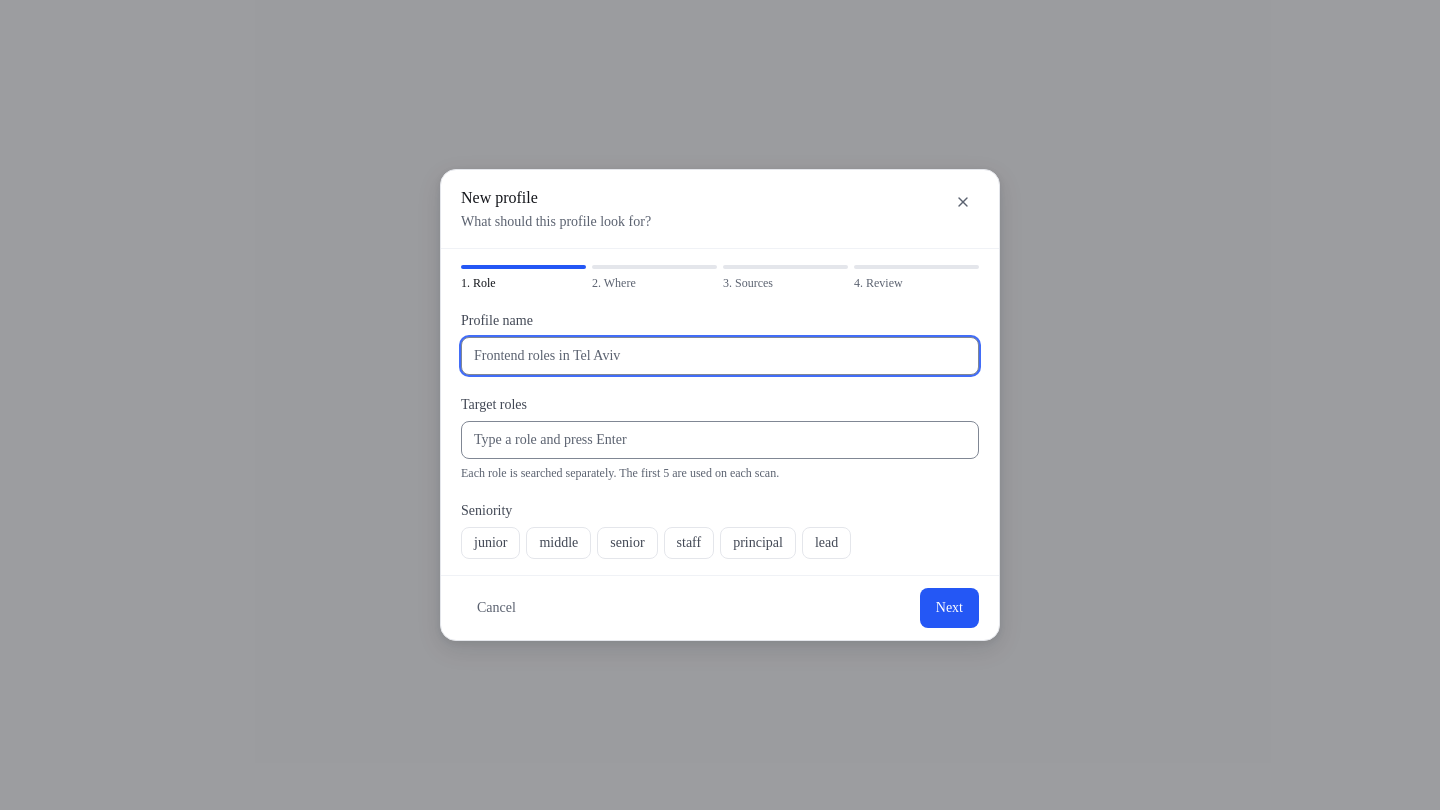
Test case: ProfileFormDialog create › sends the user back to step 1 if they jump to Review with a cleared name
Step 1. Type "Frontend" into the field labelled "Profile name" → (720, 356), box [461, 337, 979, 375]
Step 2. Type "React developer" into the field labelled "Target roles" → (720, 440), box [461, 421, 979, 459]
Then press Enter
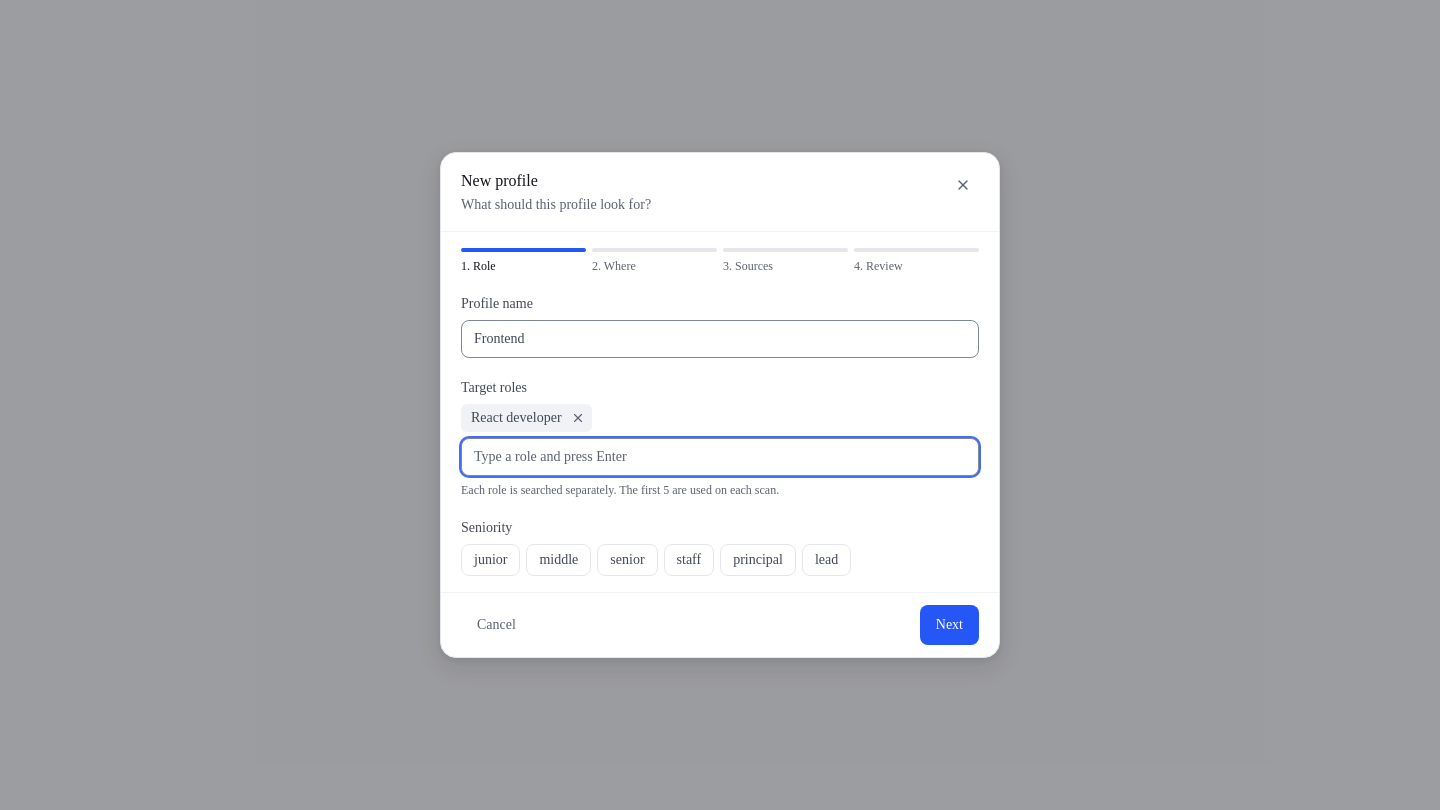
Step 3. Click the button "Next" → (949, 625), box [920, 605, 979, 645]
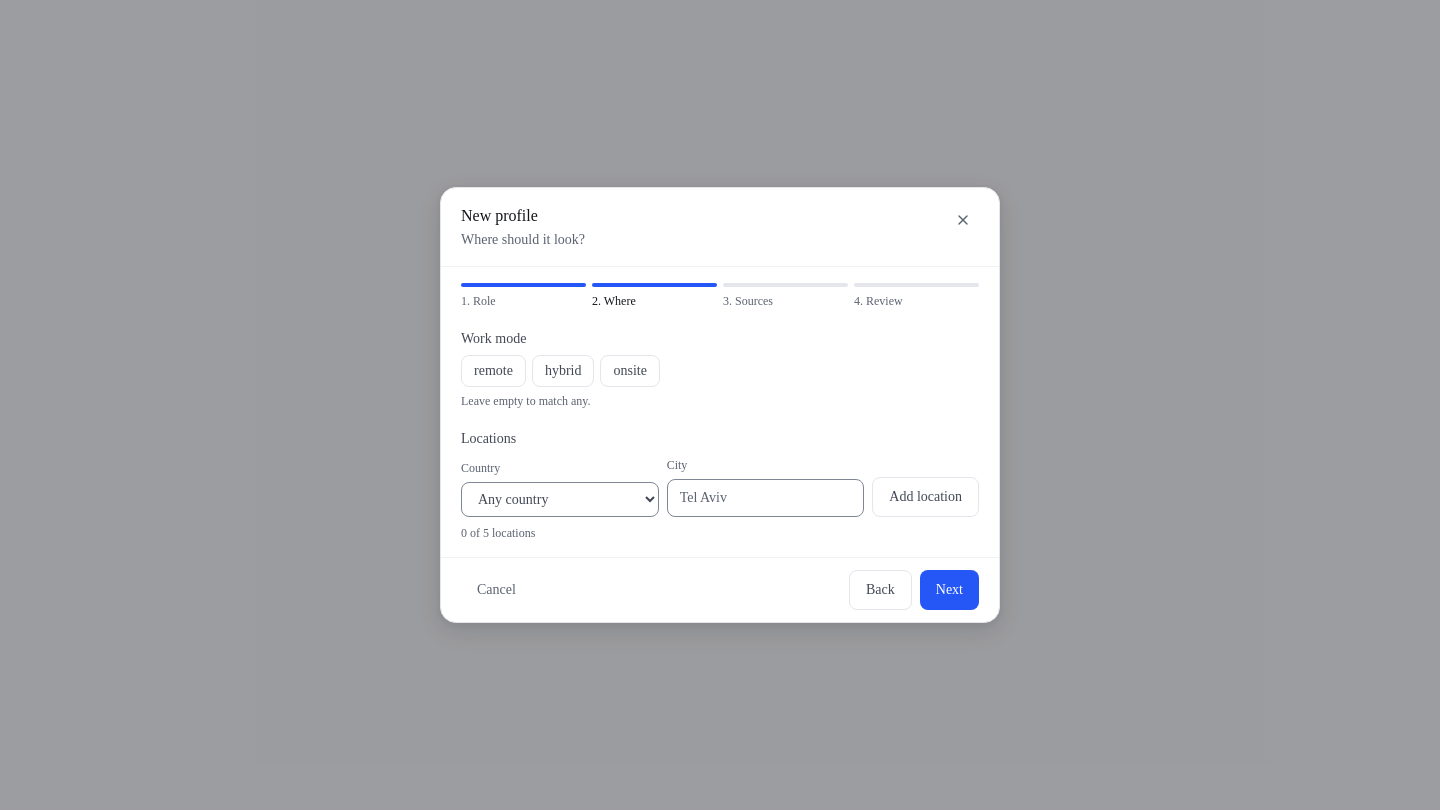
Step 4. Click the button "Next" → (949, 590), box [920, 570, 979, 610]
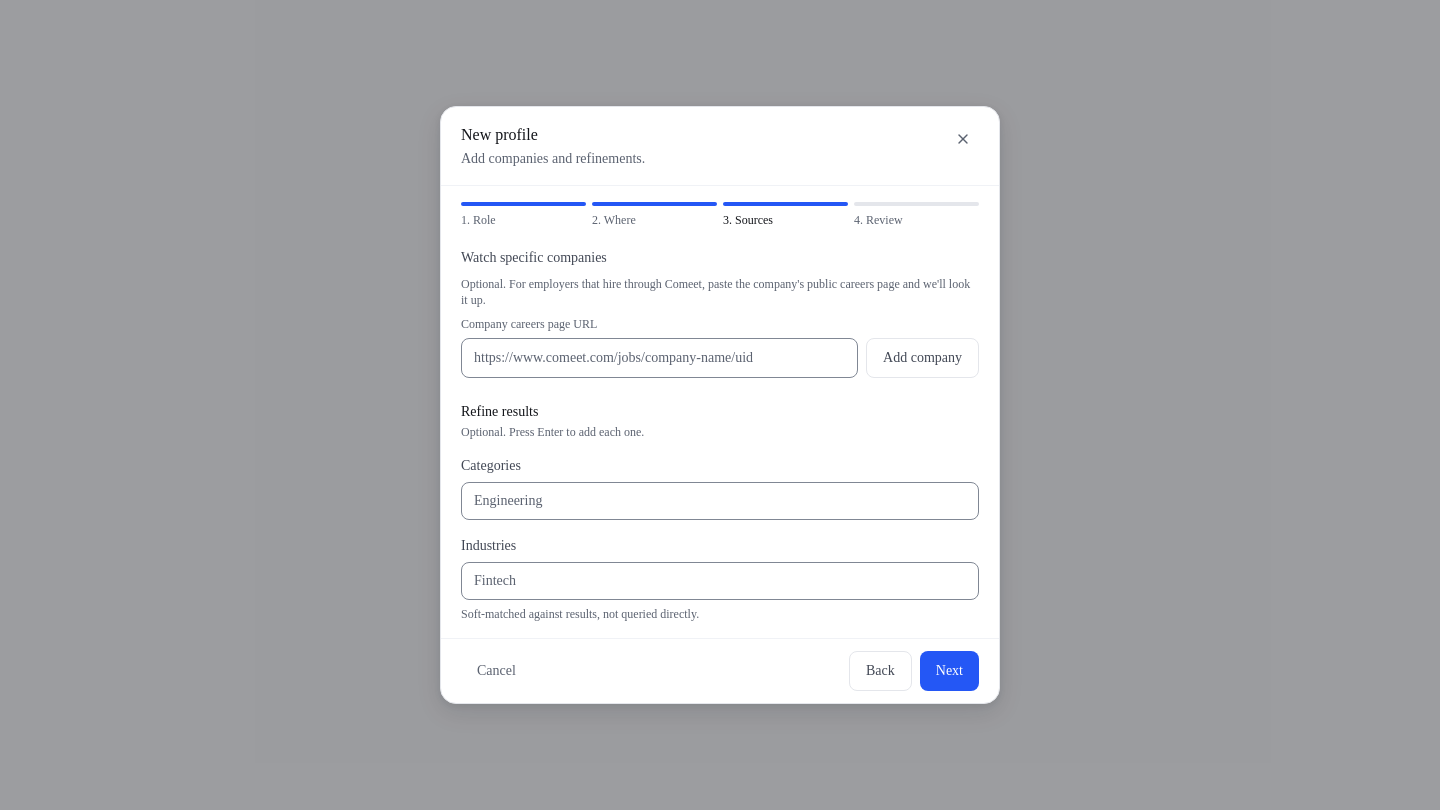
Step 5. Click the button "Next" → (949, 671), box [920, 651, 979, 691]
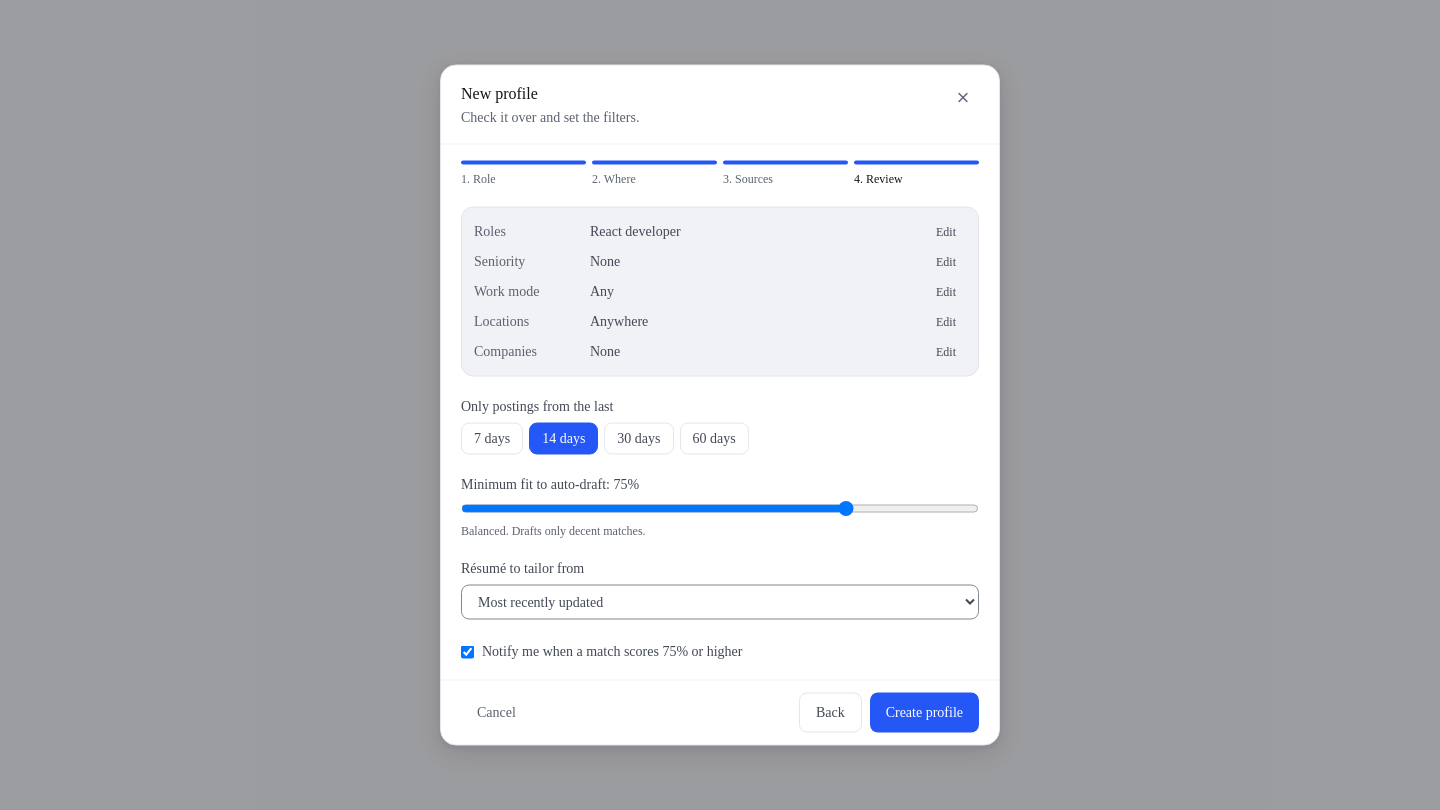
Step 6. Click the button with aria-label "Edit roles" → (946, 232), box [926, 220, 966, 244]
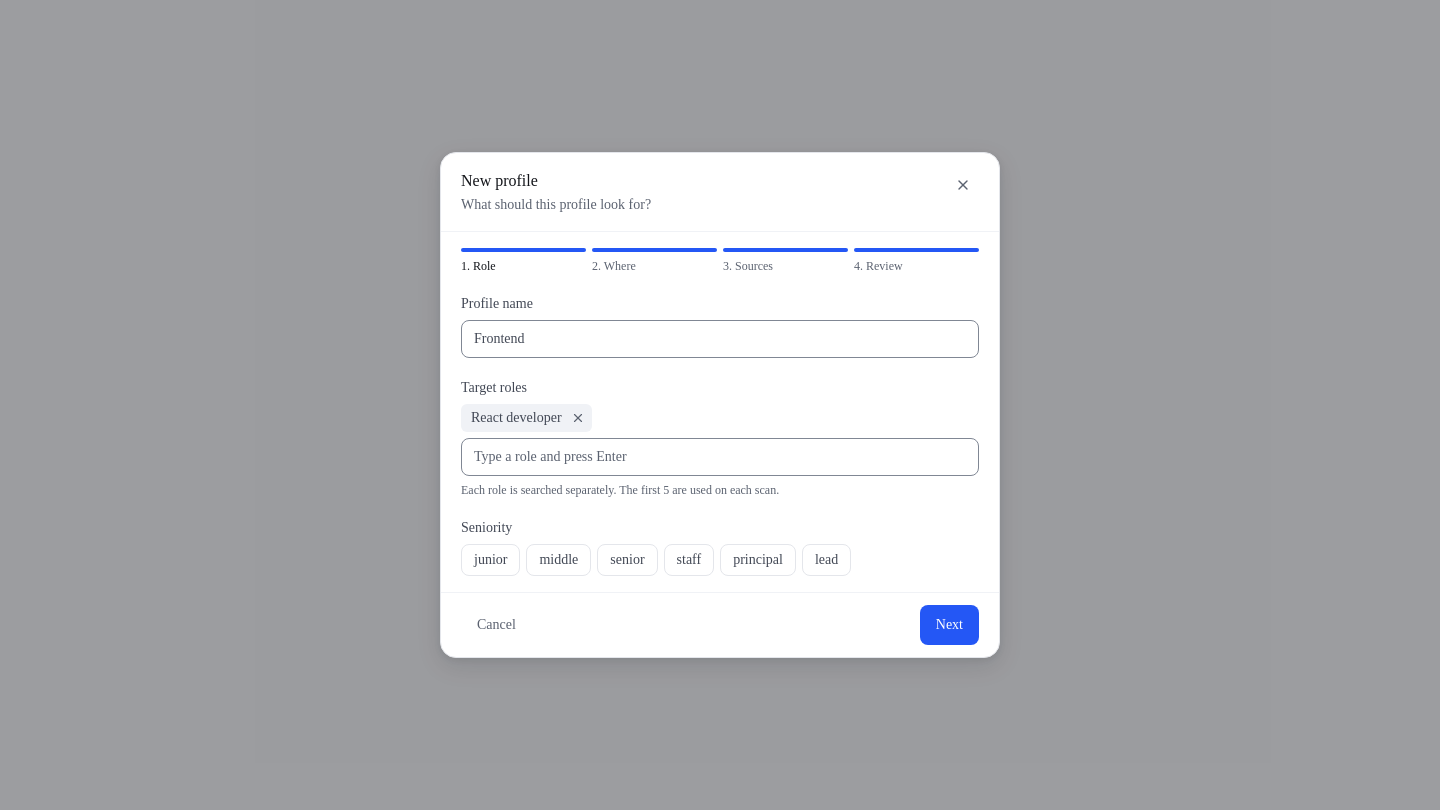
Step 7. Clear the field labelled "Profile name" → (720, 339), box [461, 320, 979, 358]
Step 8. Click the button "4. Review" → (916, 261), box [854, 248, 979, 274]
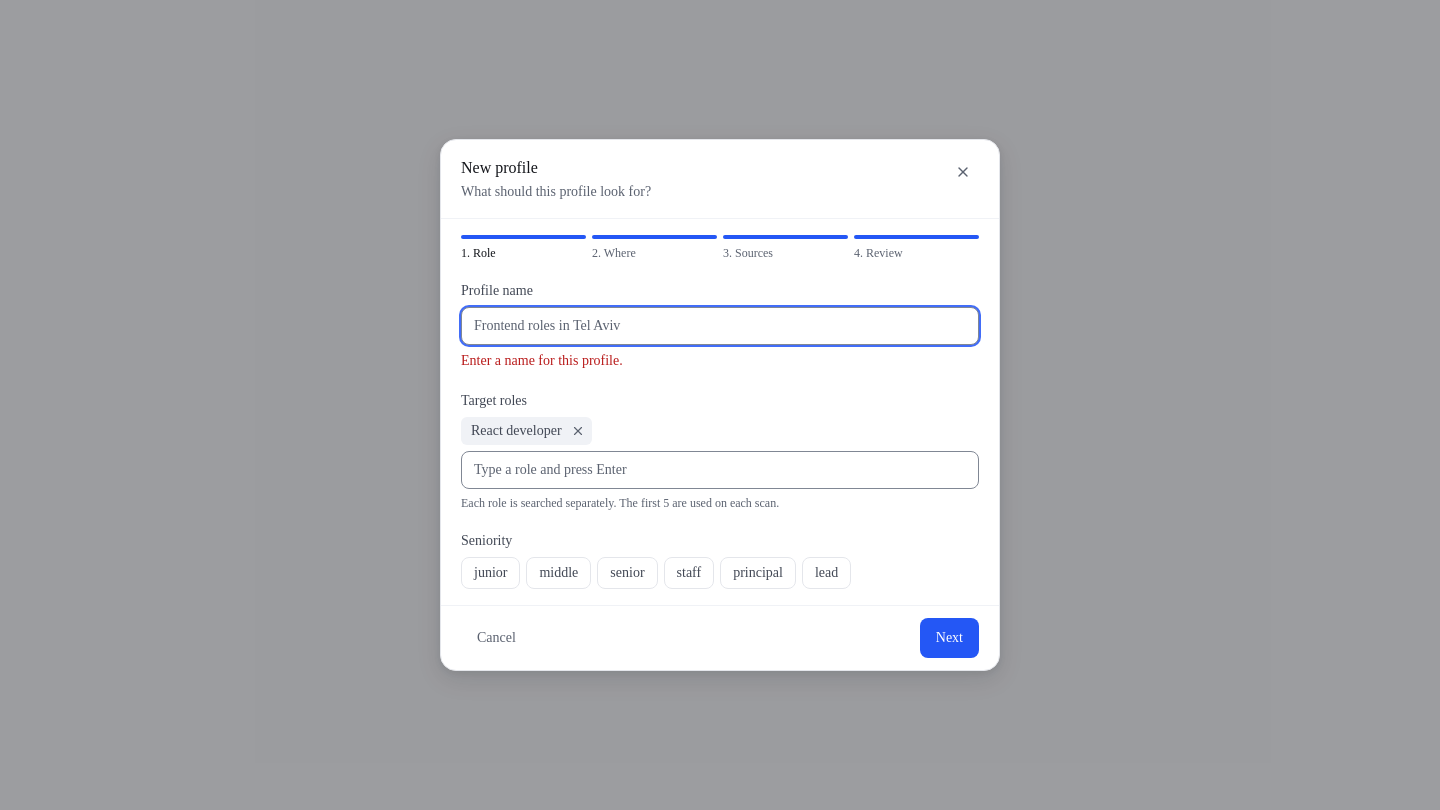
Expected: the button "Create profile" is not shown
Now the text "Enter a name for this profile." is shown, box [461, 353, 623, 368]
